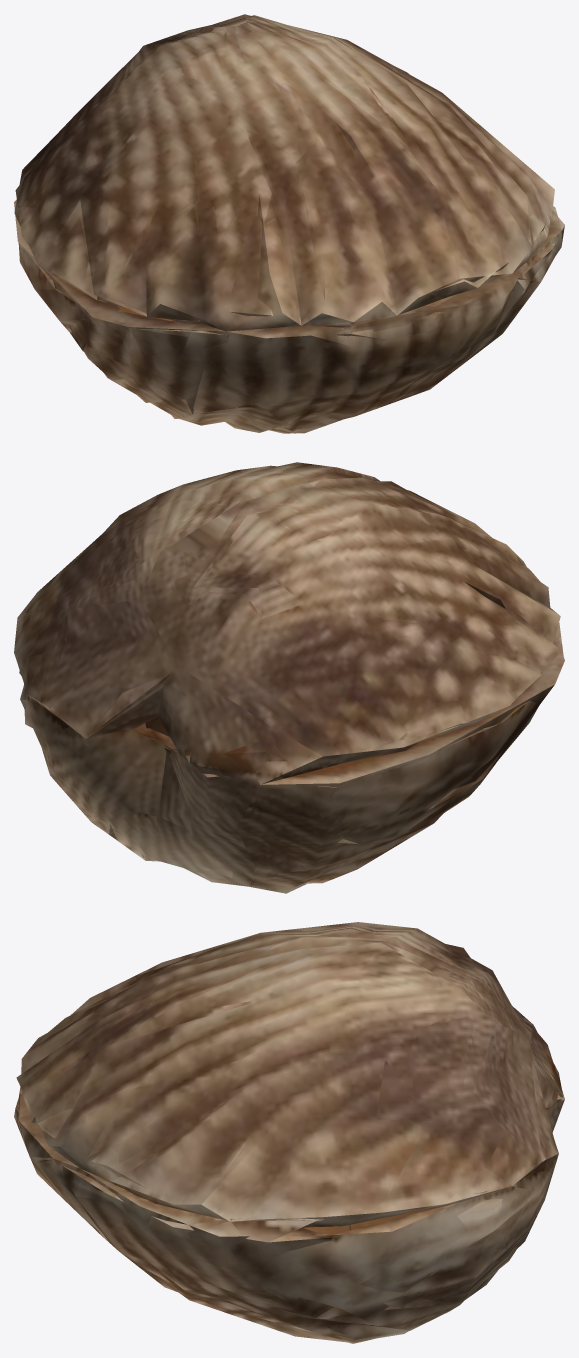
The picture shows the model from 3 angles, top to bottom: view 1: azimuth 30°, elevation 25°; view 2: azimuth 150°, elevation 25°; view 3: azimuth 270°, elevation 25°; orthographic projection.
Visible parts, largest first — view 1: cockle-shell; view 2: cockle-shell; view 3: cockle-shell.
Boxes of the visible parts, <box> form: cockle-shell: <box>14,14,564,433</box>; cockle-shell: <box>14,462,564,893</box>; cockle-shell: <box>14,922,564,1343</box>.
Bounding box in the file's own units: 0.1591 × 0.1186 × 0.1606.
1 material, 1 textured.
